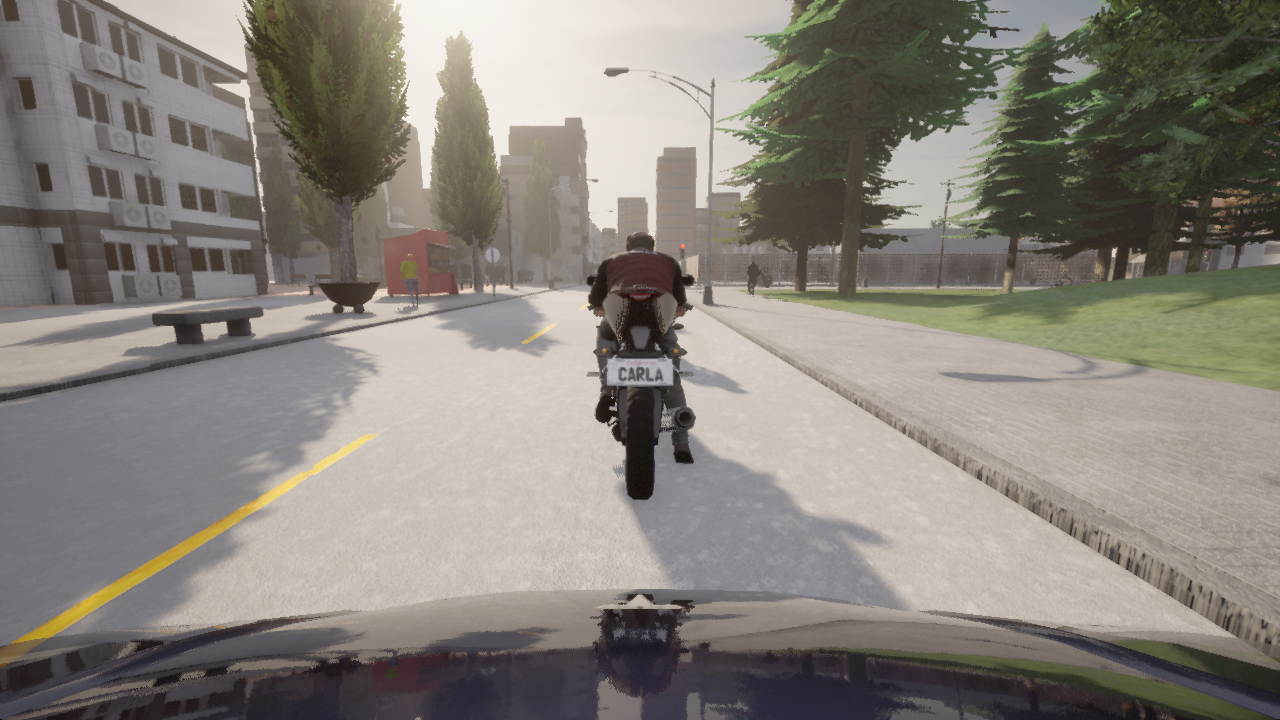cyclist: (0, 588, 1279, 719), (586, 274, 695, 498), (1048, 277, 1073, 286), (719, 268, 733, 279), (756, 276, 771, 285), (807, 269, 819, 280), (772, 271, 786, 279), (825, 272, 830, 273), (741, 276, 742, 279)
pedestrian: (400, 253, 419, 306), (745, 259, 759, 296)
